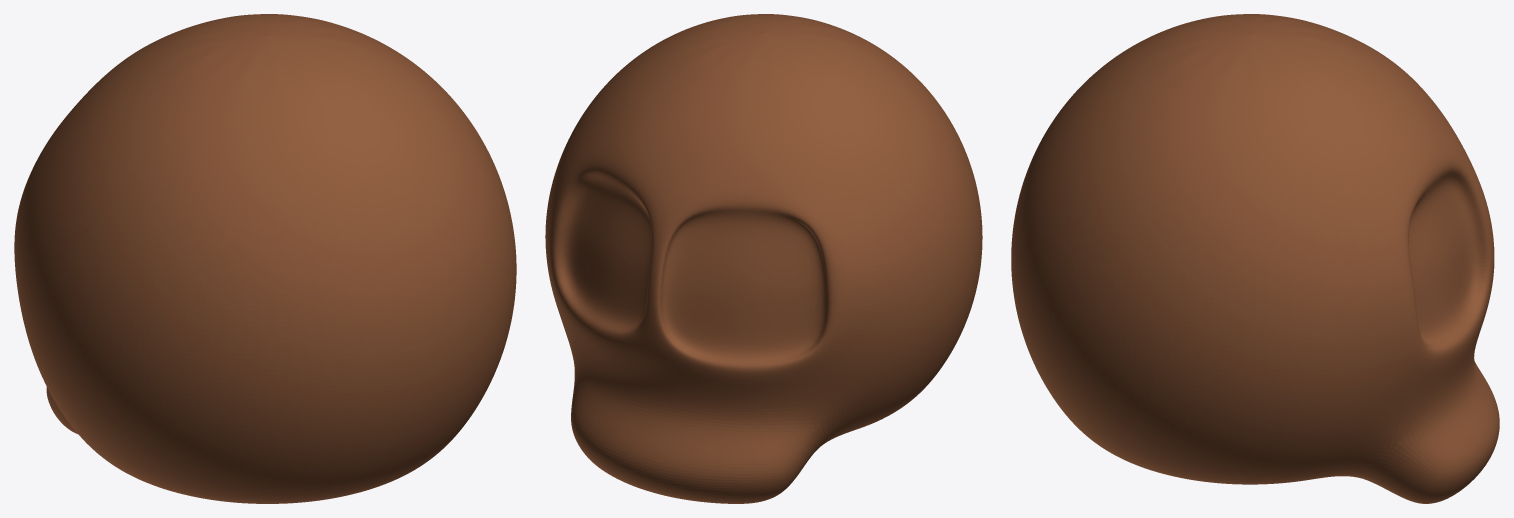
File: CalaveritaChocolate.fbx
3 renders of one model, left to right at view 1: azimuth 30°, elevation 25°; view 2: azimuth 150°, elevation 25°; view 3: azimuth 270°, elevation 25°, orthographic. The views are drawn at different scales.
Visible parts, largest first — view 1: Calaverita; view 2: Calaverita; view 3: Calaverita.
Boxes of the visible parts, left/top/right/bottom form: Calaverita: left=14, top=14, right=516, bottom=503; Calaverita: left=545, top=14, right=982, bottom=503; Calaverita: left=1011, top=14, right=1499, bottom=503.
Bounding box in the file's own units: 190 × 188 × 195.
